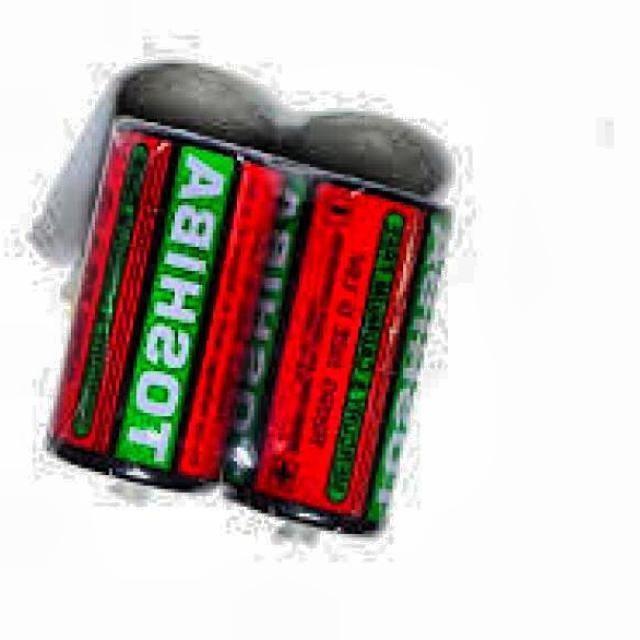battery: (47, 119, 445, 537)
